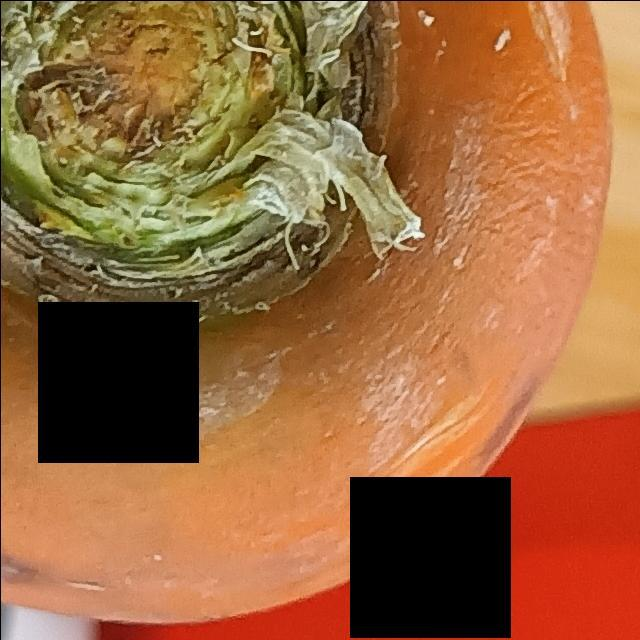carrot: (1, 1, 621, 636)
